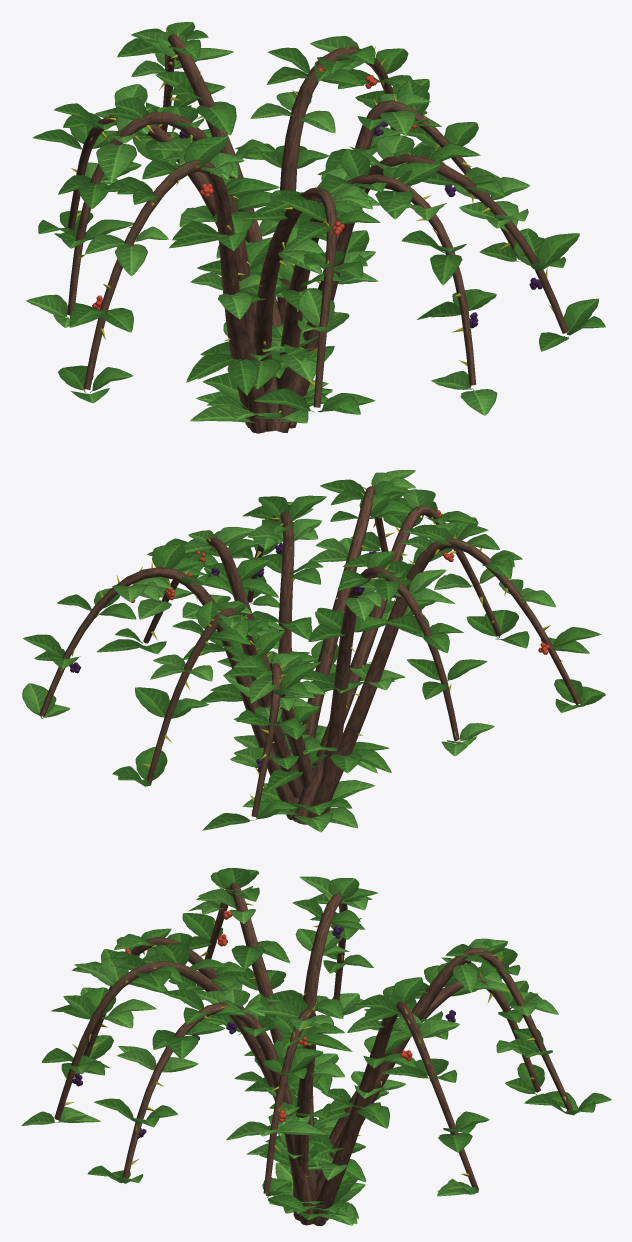
The model's file is zarza.gltf.
3 views of the same model, one above another, from view 1: azimuth 30°, elevation 25°; view 2: azimuth 150°, elevation 25°; view 3: azimuth 270°, elevation 25° (orthographic). The views are drawn at different scales.
Parts seen in each view (by area): view 1: zarza; view 2: zarza; view 3: zarza.
Part boxes in pixels (x1=…): zarza: x1=26, y1=22, x2=605, y2=433; zarza: x1=22, y1=470, x2=605, y2=832; zarza: x1=21, y1=868, x2=611, y2=1225.
Bounding box in the file's own units: 3.21 × 1.91 × 3.6.
6 materials, 5 textured.
